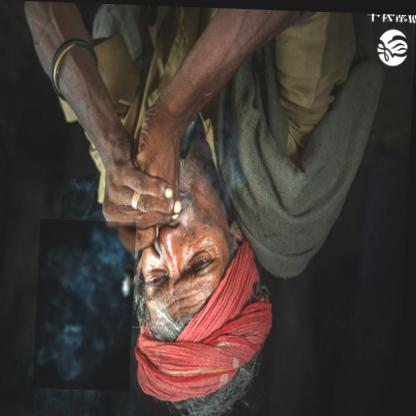smoke: (37, 218, 139, 390)
